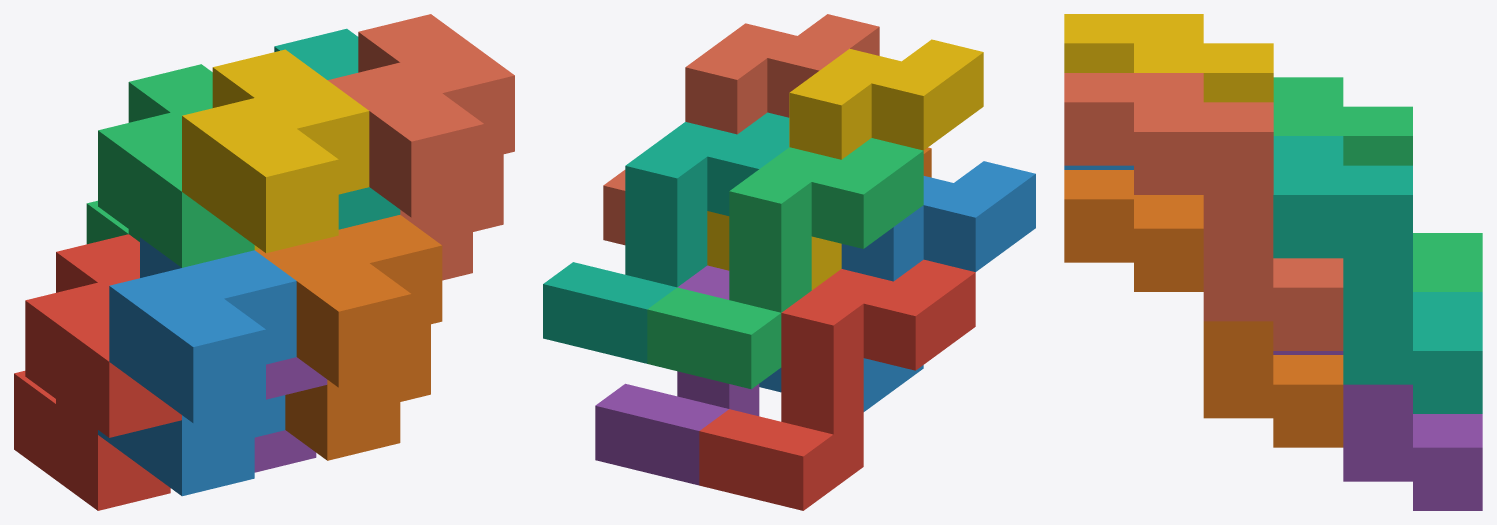
The model's file is tiling.obj.
3 views of the same model, side by side, from view 1: azimuth 30°, elevation 25°; view 2: azimuth 150°, elevation 25°; view 3: azimuth 270°, elevation 25° (orthographic). The views are drawn at different scales.
Visible parts, largest first — view 1: copy_1_domain_2, copy_1_domain_6, copy_1_domain_8, copy_1_domain_4, copy_1_domain_1, copy_1_domain_3, copy_1_domain_7, copy_1_domain_5; view 2: copy_1_domain_1, copy_1_domain_3, copy_1_domain_7, copy_1_domain_4, copy_1_domain_2, copy_1_domain_8, copy_1_domain_5; view 3: copy_1_domain_8, copy_1_domain_7, copy_1_domain_6, copy_1_domain_5, copy_1_domain_3, copy_1_domain_4.
Part boxes in pixels (<box>): copy_1_domain_2: <box>98,237,296,496</box>; copy_1_domain_6: <box>255,215,442,460</box>; copy_1_domain_8: <box>328,14,514,280</box>; copy_1_domain_4: <box>182,49,369,253</box>; copy_1_domain_1: <box>14,234,181,510</box>; copy_1_domain_3: <box>86,64,254,267</box>; copy_1_domain_7: <box>274,28,400,229</box>; copy_1_domain_5: <box>254,357,327,472</box>; copy_1_domain_1: <box>699,259,975,510</box>; copy_1_domain_3: <box>647,138,923,389</box>; copy_1_domain_7: <box>543,112,789,363</box>; copy_1_domain_4: <box>707,39,983,290</box>; copy_1_domain_2: <box>759,161,1035,411</box>; copy_1_domain_8: <box>603,14,879,245</box>; copy_1_domain_5: <box>595,265,759,485</box>; copy_1_domain_8: <box>1064,73,1343,350</box>; copy_1_domain_7: <box>1273,136,1482,413</box>; copy_1_domain_6: <box>1064,170,1343,447</box>; copy_1_domain_5: <box>1273,351,1482,510</box>; copy_1_domain_3: <box>1273,77,1482,291</box>; copy_1_domain_4: <box>1064,14,1273,102</box>.
Bounding box in the file's own units: 6 × 6 × 6.
